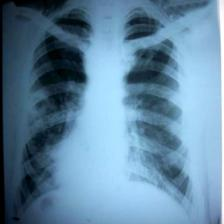tuberculosis: (7, 0, 204, 223)
